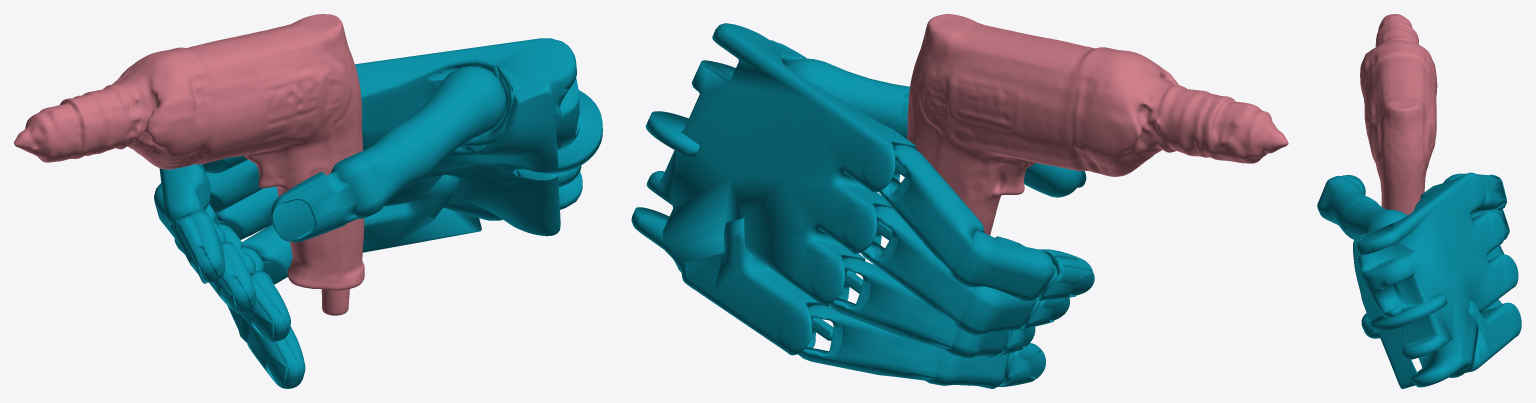
The picture shows the model from 3 angles, left to right: view 1: azimuth 30°, elevation 25°; view 2: azimuth 150°, elevation 25°; view 3: azimuth 270°, elevation 25°; orthographic projection. The views are drawn at different scales.
Visible parts, largest first — view 1: world; view 2: world; view 3: world.
Boxes of the visible parts, x1=… form: world: x1=14, y1=14, x2=602, y2=388; world: x1=631, y1=14, x2=1288, y2=388; world: x1=1317, y1=14, x2=1521, y2=388.
Bounding box in the file's own units: 0.2517 × 0.1406 × 0.1013.
